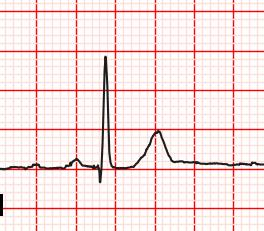Pathological Q Wave: (75, 156, 106, 186)
